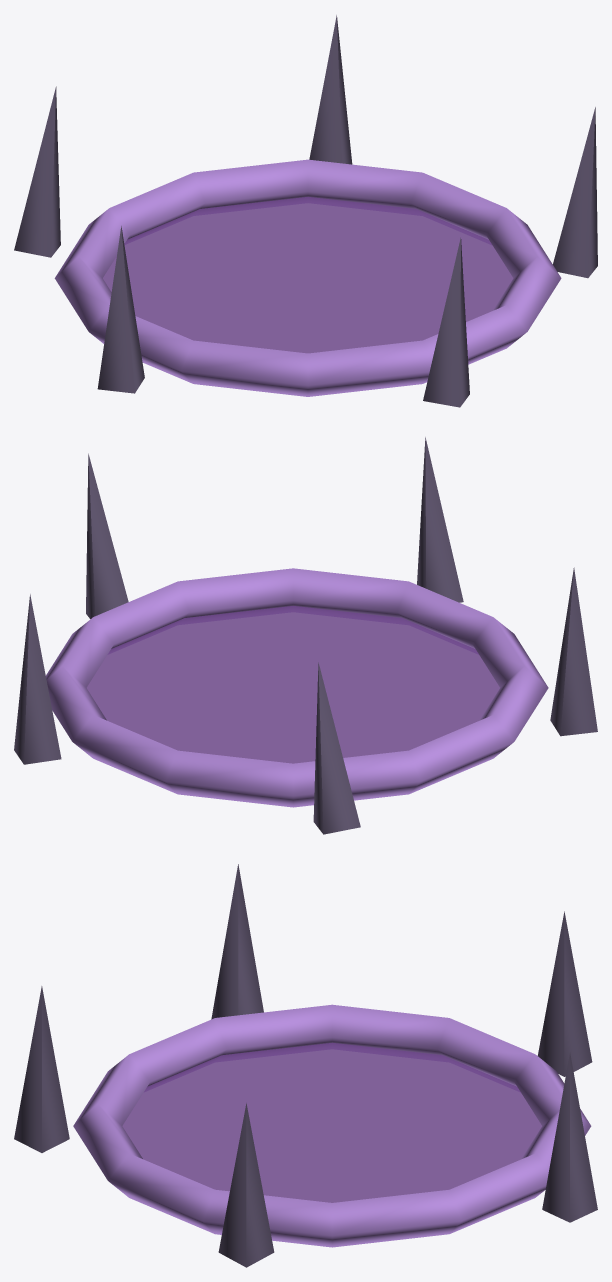
Rendered from portal-referencia.glb.
The picture shows the model from 3 angles, top to bottom: view 1: azimuth 30°, elevation 25°; view 2: azimuth 150°, elevation 25°; view 3: azimuth 270°, elevation 25°; orthographic projection. The views are drawn at different scales.
Parts seen in each view (by area): view 1: portal-2, portal-1, portal-5, portal-4, portal-6, portal-3, portal-7; view 2: portal-2, portal-1, portal-5, portal-7, portal-6, portal-4, portal-3; view 3: portal-2, portal-1, portal-7, portal-4, portal-3, portal-6, portal-5.
Part boxes in pixels (box(x1,y1,x2,y2)): portal-2: box(103, 197, 513, 353); portal-1: box(54, 159, 561, 396); portal-5: box(97, 226, 144, 393); portal-4: box(423, 237, 469, 407); portal-6: box(14, 86, 60, 257); portal-3: box(553, 107, 597, 278); portal-7: box(309, 15, 352, 164); portal-2: box(86, 606, 499, 763); portal-1: box(46, 568, 548, 807); portal-5: box(550, 567, 597, 736); portal-7: box(14, 594, 61, 764); portal-6: box(313, 662, 360, 834); portal-4: box(417, 437, 463, 602); portal-3: box(86, 453, 128, 618); portal-2: box(122, 1042, 541, 1202); portal-1: box(73, 1004, 591, 1247); portal-7: box(542, 1052, 597, 1222); portal-4: box(14, 986, 69, 1152); portal-3: box(218, 1103, 274, 1267); portal-6: box(537, 911, 592, 1076); portal-5: box(211, 864, 263, 1019).
Bounding box in the file's own units: 5.11 × 1.6 × 5.01.
